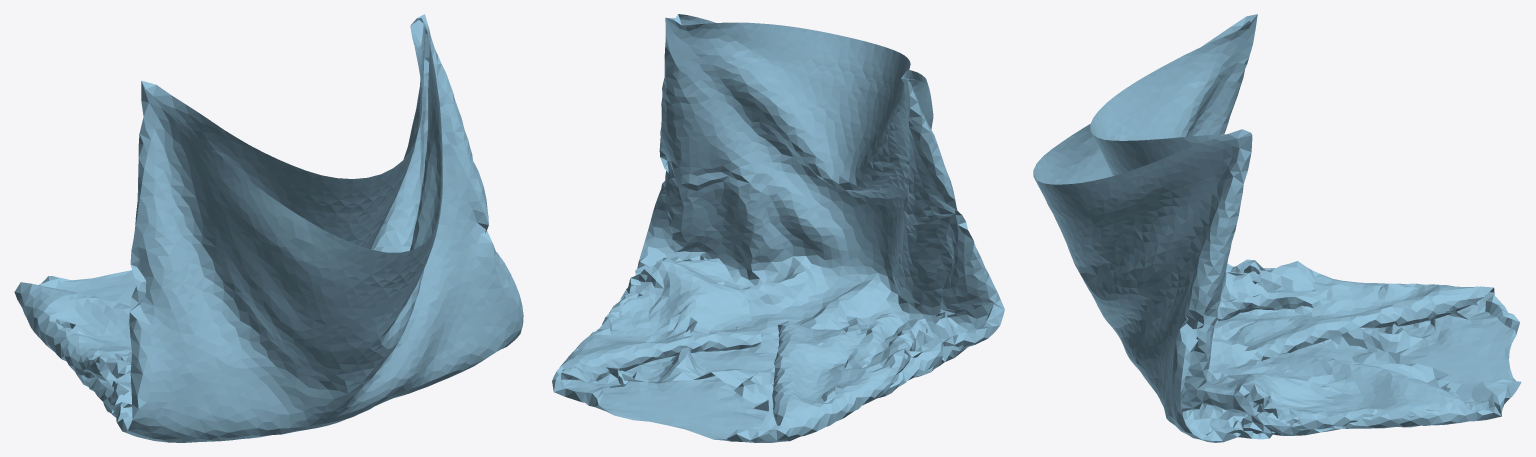
Rendered from frame_12.glb.
3 views of the same model, side by side, from view 1: azimuth 30°, elevation 25°; view 2: azimuth 150°, elevation 25°; view 3: azimuth 270°, elevation 25° (orthographic). The views are drawn at different scales.
Parts seen in each view (by area): view 1: frame_12.obj; view 2: frame_12.obj; view 3: frame_12.obj.
Part boxes in pixels (x1,y1,x2,y2): frame_12.obj: (14, 14, 523, 442); frame_12.obj: (552, 14, 1004, 442); frame_12.obj: (1033, 14, 1521, 442).
Size of the model in its own units: 1.09 by 0.8697 by 1.29.
